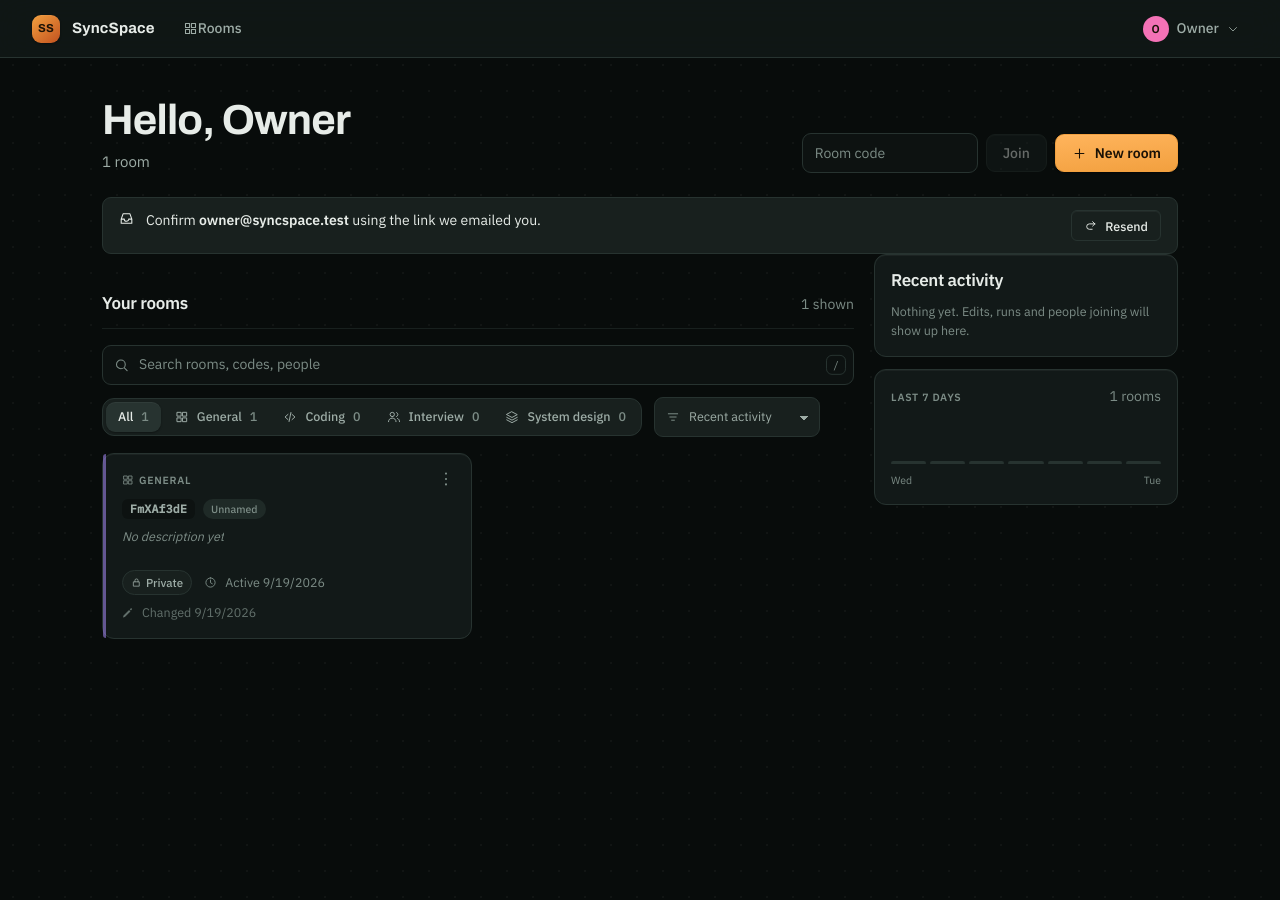
Test: dashboard room management › leads an unnamed room with its code so two are never identical
Expected: the text "FmXAf3dE" is shown, [122,499,195,519]
Expected: the text "Unnamed" is shown, [203,499,266,519]
Click the button named "Manage FmXAf3dE": x=446, y=479 [429,462,463,496]
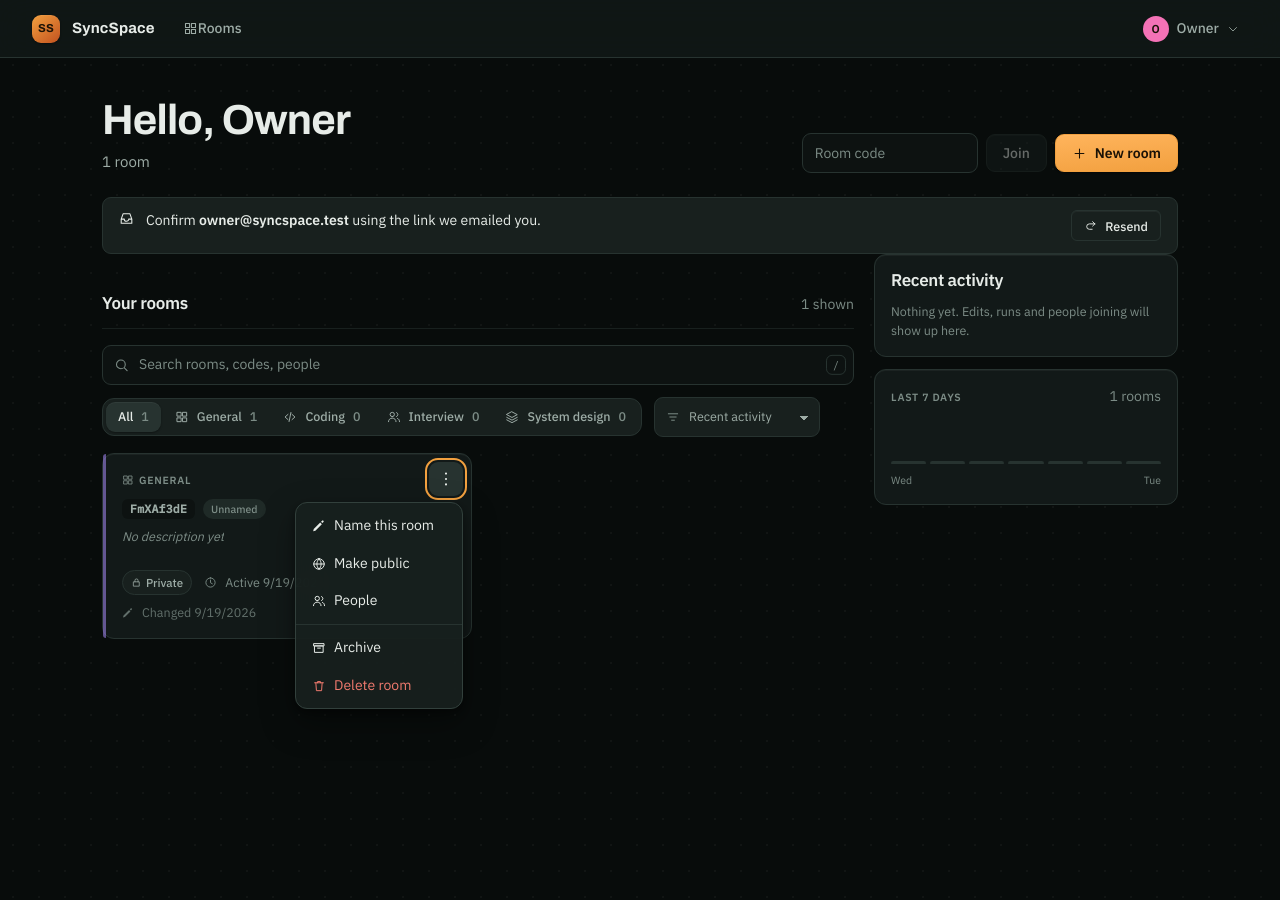
Result: the menu item "Name this room" is shown at [300,507,458,545]
